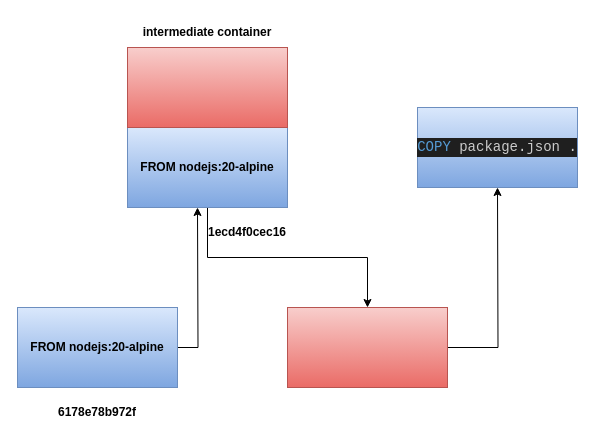
Image size: 595x444. Some labels were removed from this diagram. Here are the shapes that lost their labels. From the top down, the centre of each, then its label:
[207,87]: WORKDIR /opt/server
[367,347]: 2509c5c9dc59
